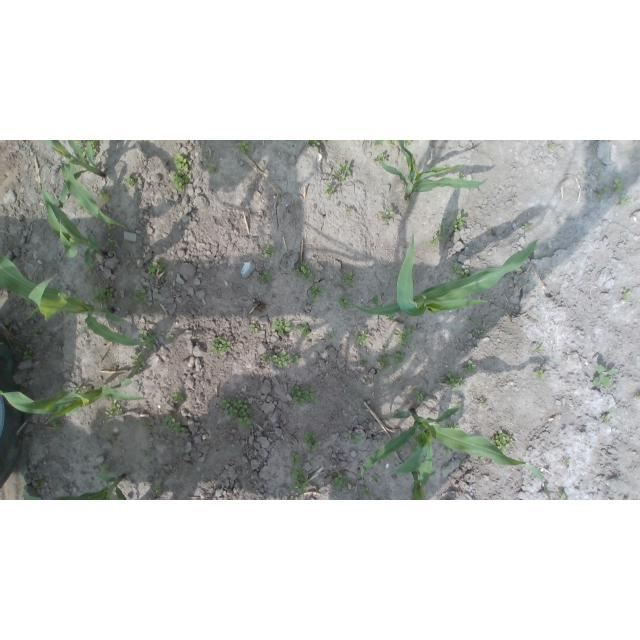Maize: (362, 404, 551, 501), (352, 229, 538, 317), (1, 257, 156, 348), (42, 141, 126, 230), (38, 166, 108, 269), (0, 377, 148, 424), (377, 140, 487, 198), (22, 472, 127, 500), (409, 468, 436, 500)
Weeds: (220, 397, 253, 427), (170, 153, 190, 194), (290, 465, 311, 493), (592, 364, 616, 388), (491, 430, 516, 453), (440, 372, 467, 391), (89, 287, 115, 305), (164, 413, 185, 435), (292, 385, 315, 405), (77, 141, 100, 160), (292, 262, 315, 281), (449, 263, 473, 279), (327, 472, 347, 491), (332, 162, 352, 181), (139, 330, 158, 350), (394, 328, 416, 345), (148, 261, 167, 280), (304, 432, 321, 453), (211, 336, 230, 354), (106, 399, 123, 418), (273, 351, 292, 368), (273, 318, 291, 335), (452, 214, 468, 233), (133, 352, 147, 373), (378, 208, 394, 225), (354, 330, 371, 346), (377, 354, 391, 372), (124, 173, 140, 188), (134, 288, 149, 304), (259, 270, 276, 284), (393, 347, 405, 365), (310, 286, 325, 300), (339, 295, 354, 309), (265, 245, 278, 260), (612, 179, 625, 194), (236, 141, 250, 154), (98, 189, 111, 203), (24, 348, 37, 362), (343, 271, 356, 285), (298, 323, 311, 337), (464, 360, 476, 375), (430, 235, 443, 248), (349, 430, 362, 443), (172, 391, 185, 403), (385, 311, 398, 323), (99, 462, 110, 476), (415, 391, 427, 403), (153, 482, 165, 494), (373, 153, 386, 164), (324, 184, 335, 197), (440, 221, 449, 236), (34, 476, 46, 487), (533, 370, 547, 379), (207, 162, 217, 174), (72, 385, 85, 394), (443, 445, 453, 456), (32, 327, 42, 338), (249, 324, 260, 334), (620, 195, 630, 206), (602, 412, 611, 424), (446, 421, 459, 429), (598, 187, 608, 197), (370, 294, 379, 305), (290, 453, 299, 464), (308, 141, 321, 148), (410, 443, 419, 453), (53, 422, 63, 431), (622, 290, 632, 299), (362, 488, 371, 497), (78, 204, 87, 213), (166, 333, 175, 342), (261, 354, 271, 362), (141, 422, 152, 429), (142, 451, 152, 458), (536, 343, 543, 353), (521, 223, 532, 229), (373, 140, 384, 146), (478, 398, 486, 406), (557, 492, 565, 500), (292, 355, 299, 364), (382, 343, 388, 353), (477, 330, 484, 338), (107, 223, 115, 230), (327, 332, 334, 340), (458, 172, 466, 179), (467, 317, 476, 323), (109, 239, 119, 244), (361, 358, 368, 365), (548, 141, 555, 148), (404, 140, 412, 146), (387, 141, 396, 146), (373, 477, 379, 483), (479, 456, 484, 463), (288, 497, 299, 500), (112, 435, 117, 441), (409, 390, 415, 395), (309, 458, 315, 463), (486, 230, 492, 235), (383, 497, 390, 500), (565, 460, 569, 465), (637, 393, 640, 399), (347, 209, 352, 212), (320, 141, 324, 144), (625, 498, 630, 500)
